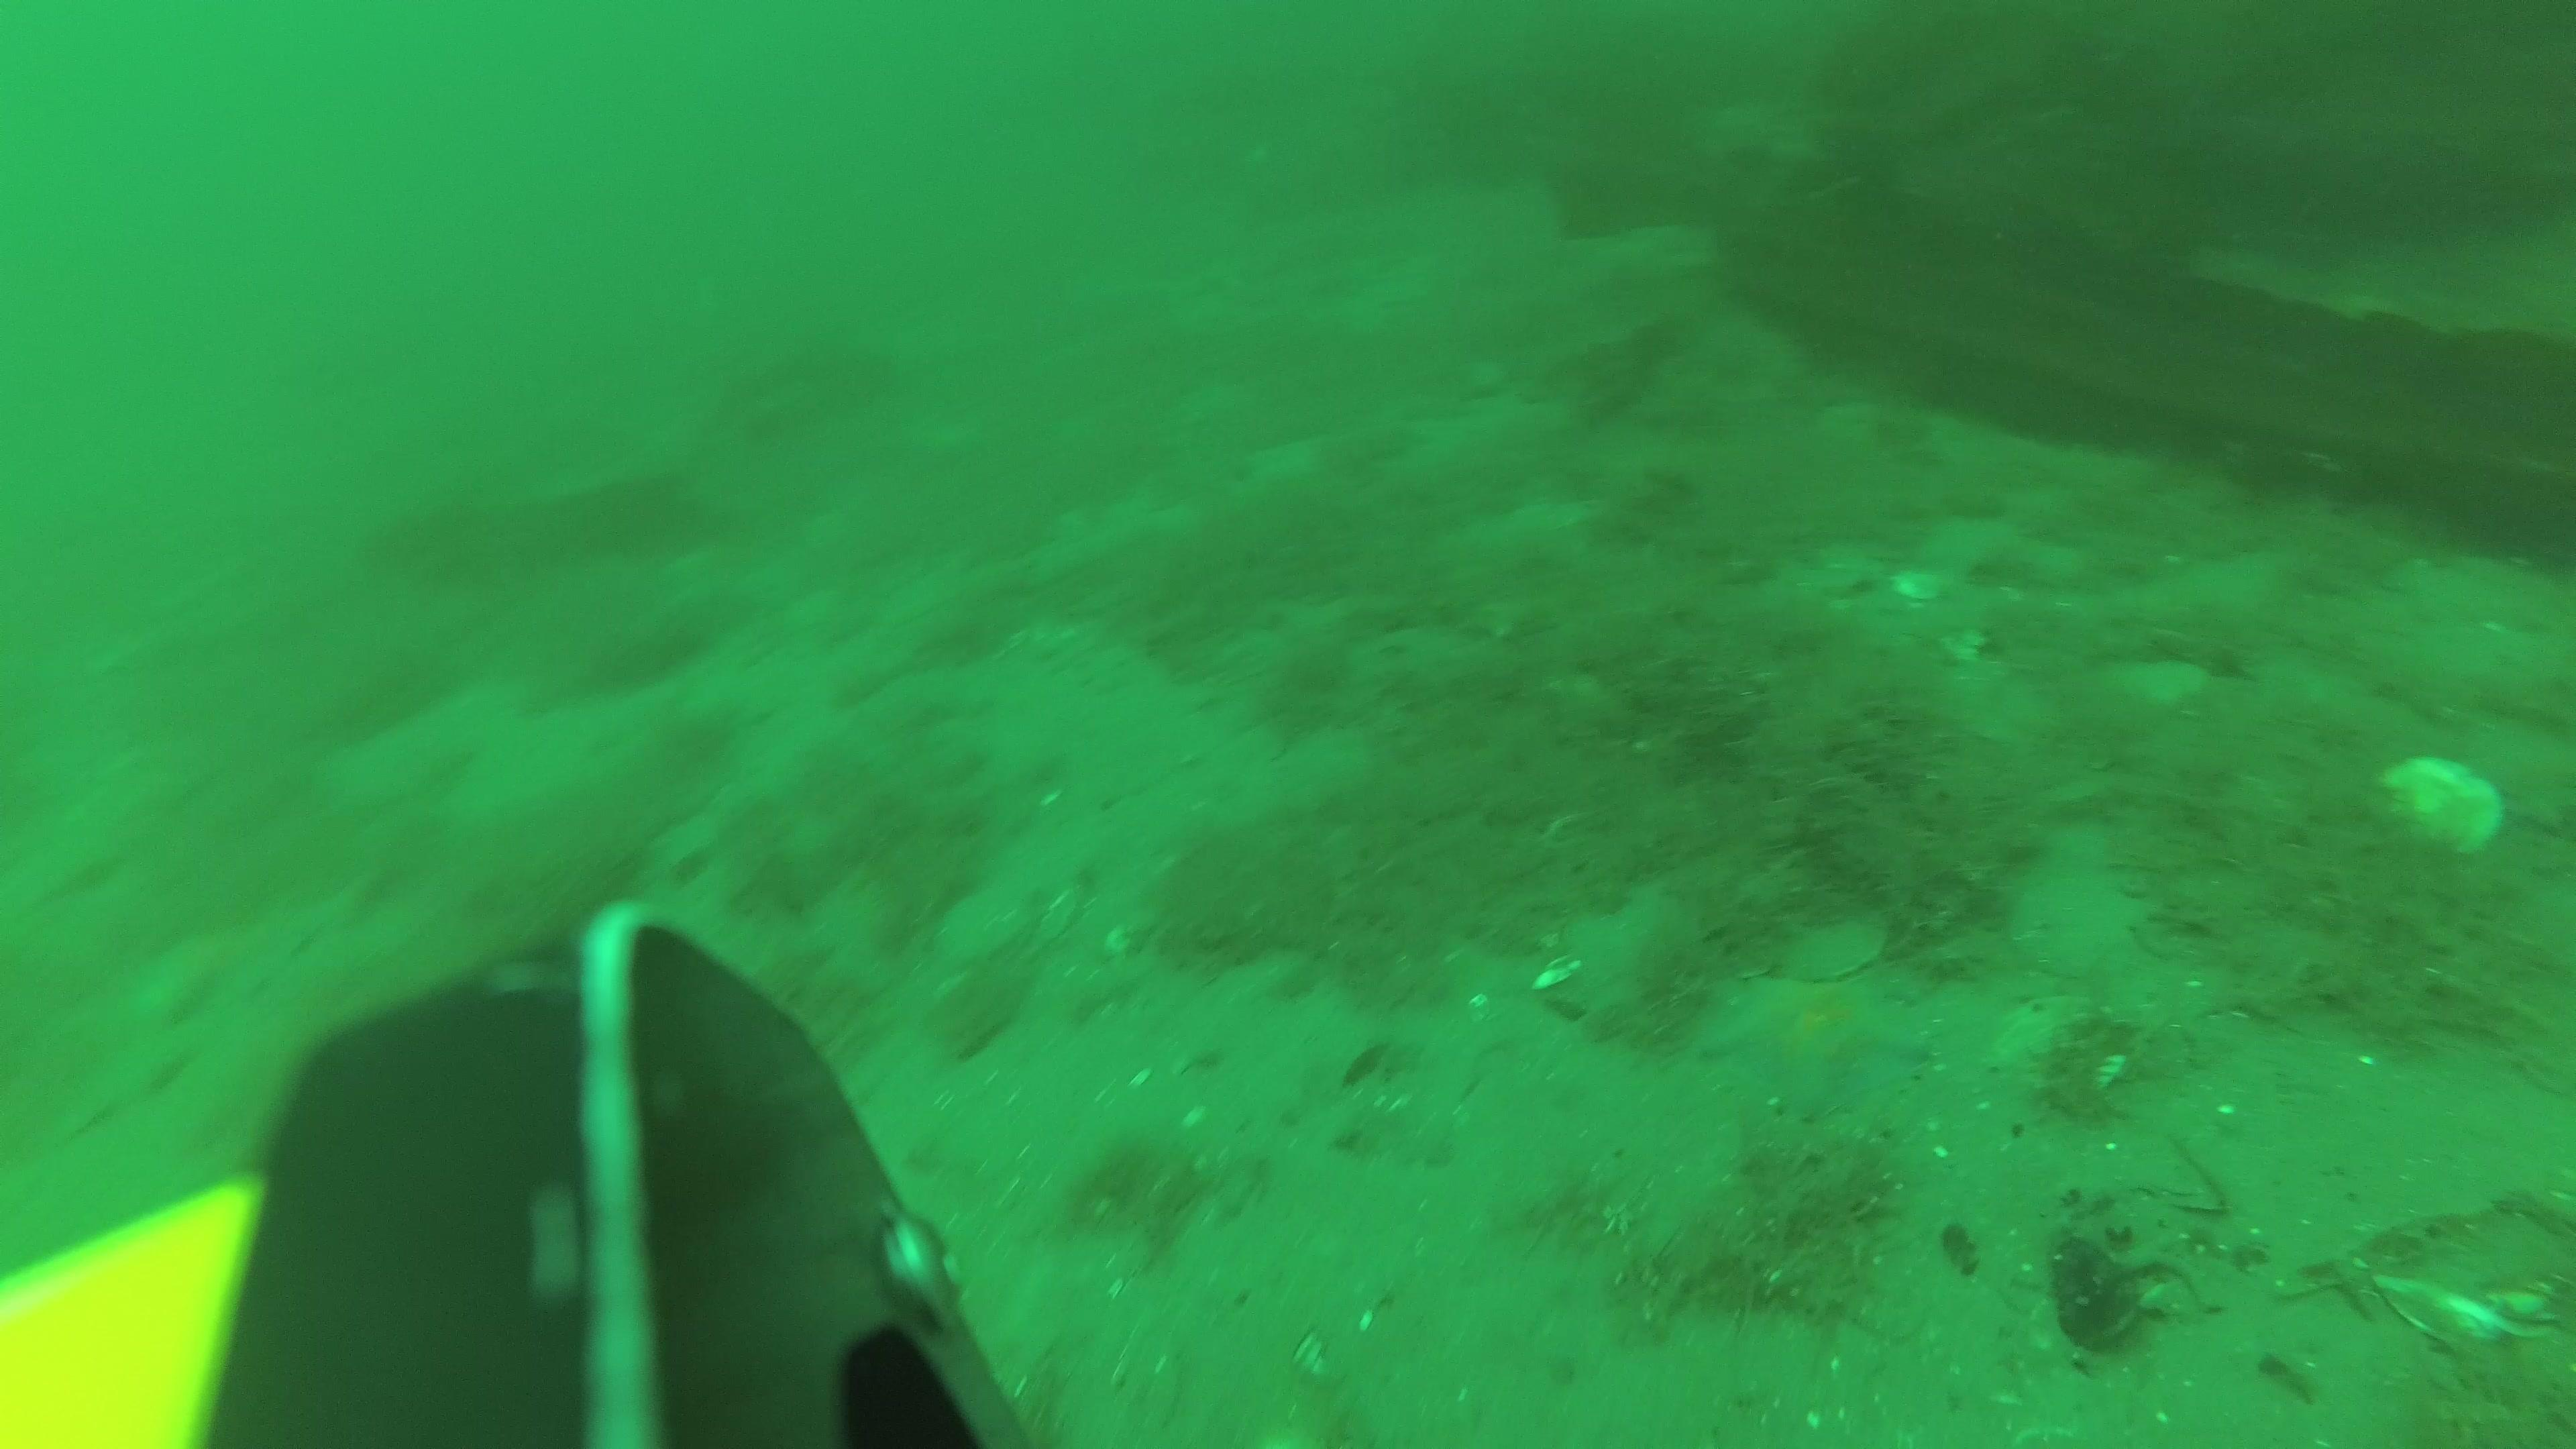scallop: (2373, 750, 2509, 853)
starfish: (1698, 970, 1936, 1116)
